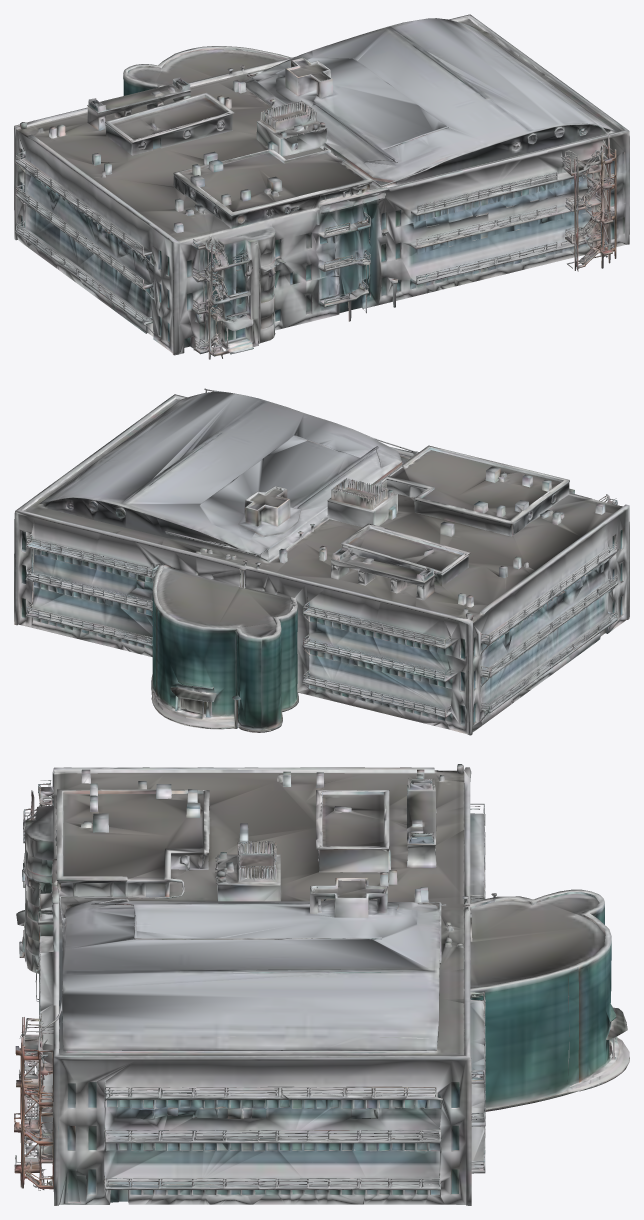
Rendered from pavilhao-inovacao.glb.
The picture shows the model from 3 angles, top to bottom: view 1: azimuth 30°, elevation 25°; view 2: azimuth 150°, elevation 25°; view 3: azimuth 270°, elevation 25°; orthographic projection. The views are drawn at different scales.
Visible parts, largest first — view 1: mesh_node; view 2: mesh_node; view 3: mesh_node.
Part boxes in pixels (bbox=[...]): mesh_node: bbox=[14, 14, 629, 359]; mesh_node: bbox=[14, 388, 629, 735]; mesh_node: bbox=[14, 764, 629, 1205].
Size of the model in its own units: 1.9 by 0.5653 by 1.63.
Materials: 1 (1 with a texture image).
